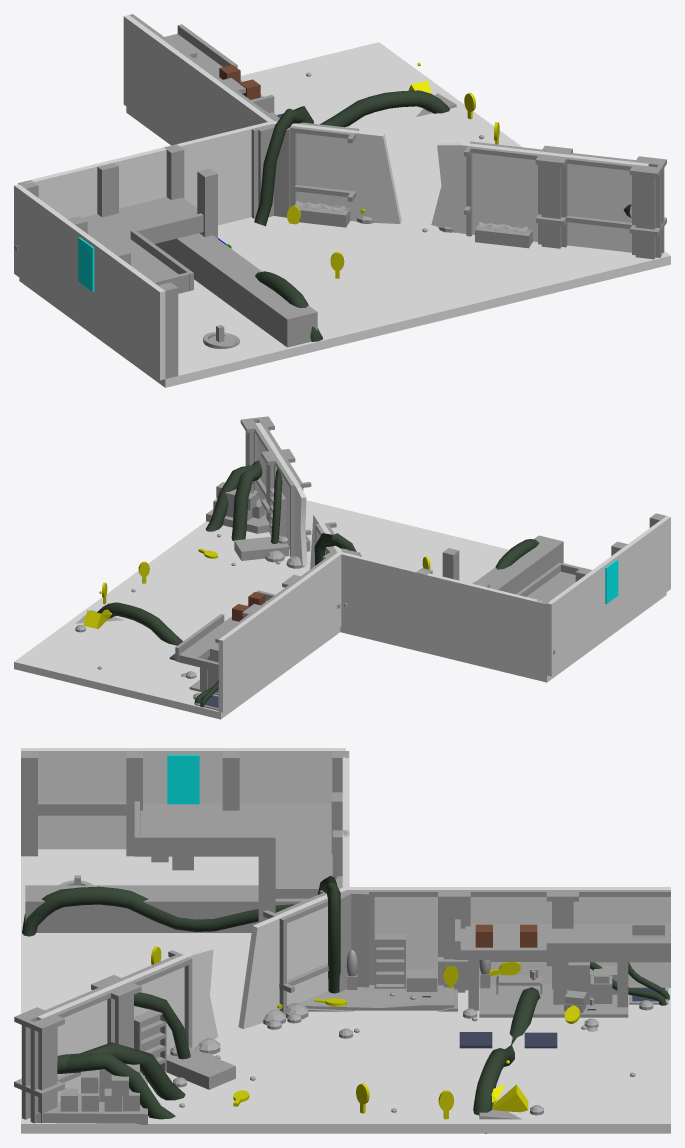
File: Salle 2 present.fbx
3 views of the same model, one above another, from view 1: azimuth 30°, elevation 25°; view 2: azimuth 150°, elevation 25°; view 3: azimuth 270°, elevation 25° (orthographic). The views are drawn at different scales.
Parts seen in each view (by area): view 1: pCube94, pCube97, pCube96, pCube231, wall9, wall4, wall2, wall8, wall10, wall1, wall7, wall (+24 smaller); view 2: pCube96, pCube94, wall5, wall6, wall7, pCube97, wall10, wall1, wall2, wall11, wall12, wall (+17 smaller); view 3: pCube96, pCube94, pCube97, pCube234, wall2, pCube231, wall1, wall8, sweep44, wall10, wall12, pCube100 (+43 smaller).
Part boxes in pixels (<box>): pCube94: <box>281,170,670,325</box>; pCube97: <box>19,216,418,387</box>; pCube96: <box>126,42,522,180</box>; pCube231: <box>155,233,317,347</box>; wall9: <box>459,142,554,241</box>; wall4: <box>553,153,648,252</box>; wall2: <box>111,255,165,380</box>; wall8: <box>272,121,366,221</box>; wall10: <box>123,15,177,139</box>; wall1: <box>14,184,67,308</box>; wall7: <box>187,121,273,225</box>; wall: <box>62,220,116,344</box>; pCube96: <box>14,574,340,719</box>; pCube94: <box>133,500,459,602</box>; wall5: <box>477,585,545,676</box>; wall6: <box>408,568,478,659</box>; wall7: <box>339,552,409,642</box>; pCube97: <box>340,537,666,682</box>; wall10: <box>218,610,262,712</box>; wall1: <box>547,574,591,676</box>; wall2: <box>627,516,670,617</box>; wall11: <box>259,581,302,683</box>; wall12: <box>298,552,341,654</box>; wall: <box>587,545,631,646</box>; pCube96: <box>346,988,670,1133</box>; pCube94: <box>21,986,345,1133</box>; pCube97: <box>21,849,258,986</box>; pCube234: <box>140,803,332,898</box>; wall2: <box>21,748,129,849</box>; pCube231: <box>25,885,308,932</box>; wall1: <box>237,748,345,803</box>; wall8: <box>267,888,346,1010</box>; sweep44: <box>22,886,294,936</box>; wall10: <box>562,887,670,987</box>; wall12: <box>346,887,454,982</box>; pCube100: <box>460,924,670,959</box>.
Size of the model in its own units: 30.74 by 6.95 by 30.33.
